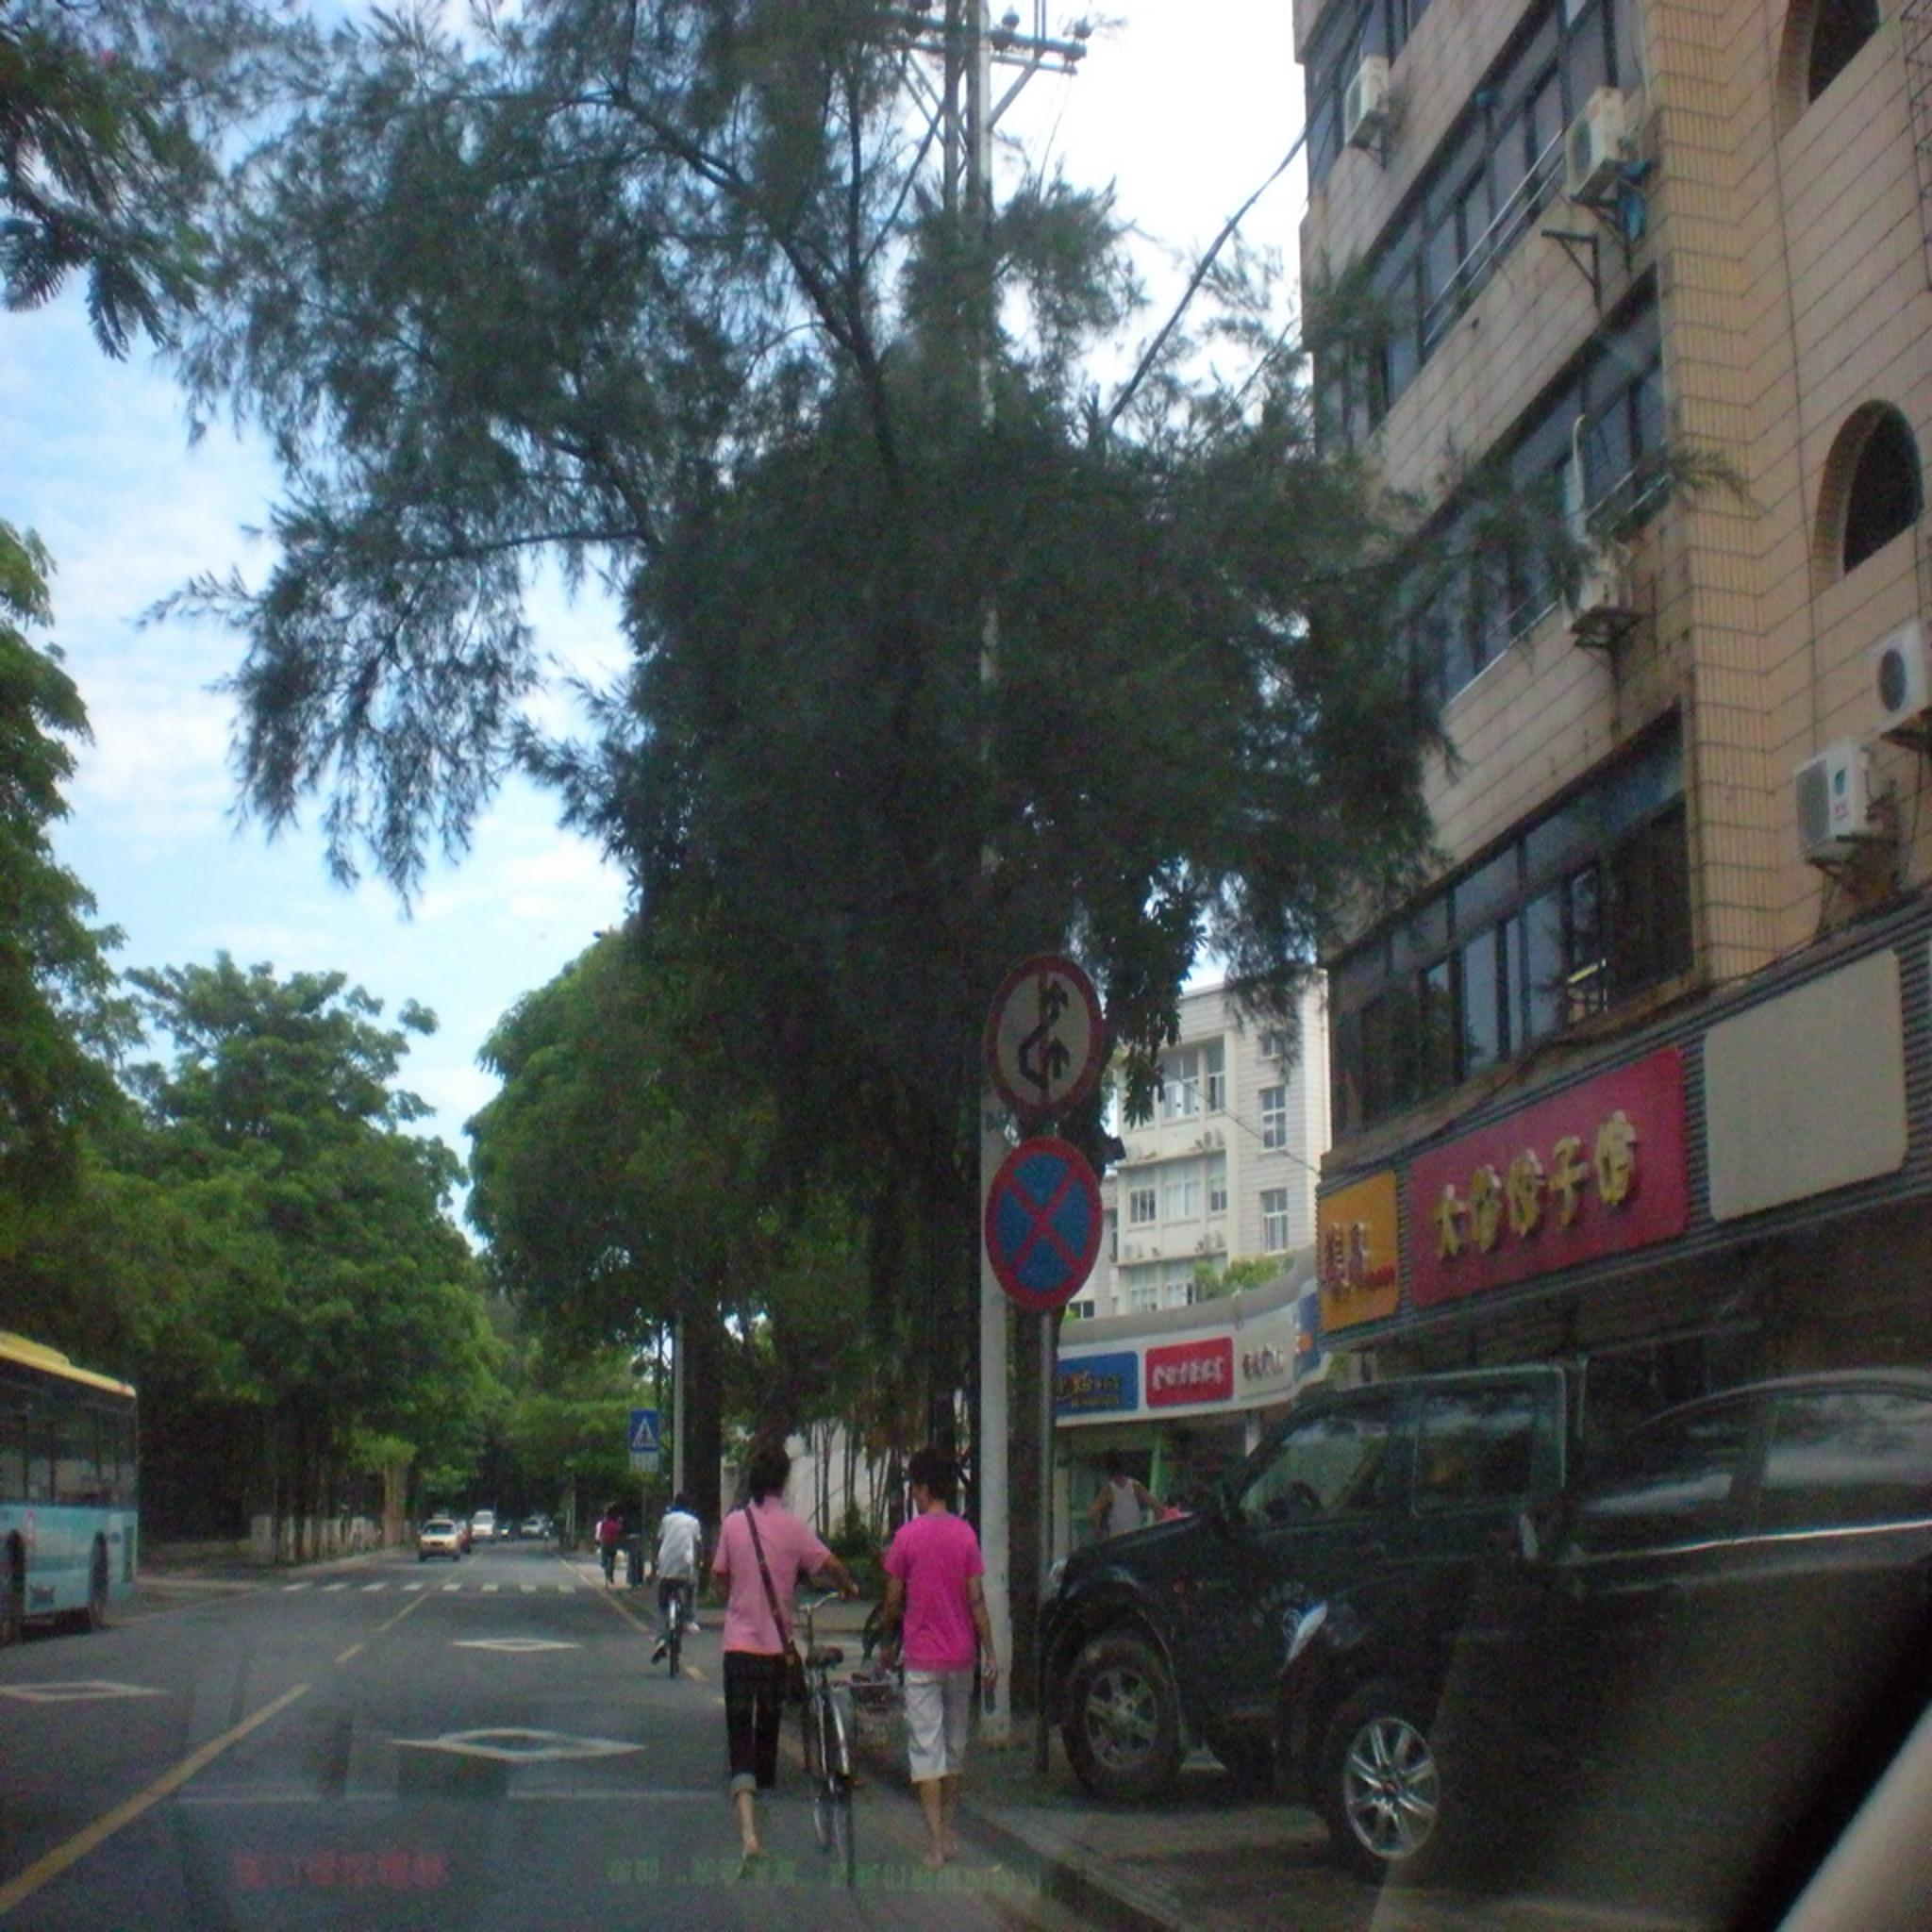pn: (985, 1145, 1088, 1309)
